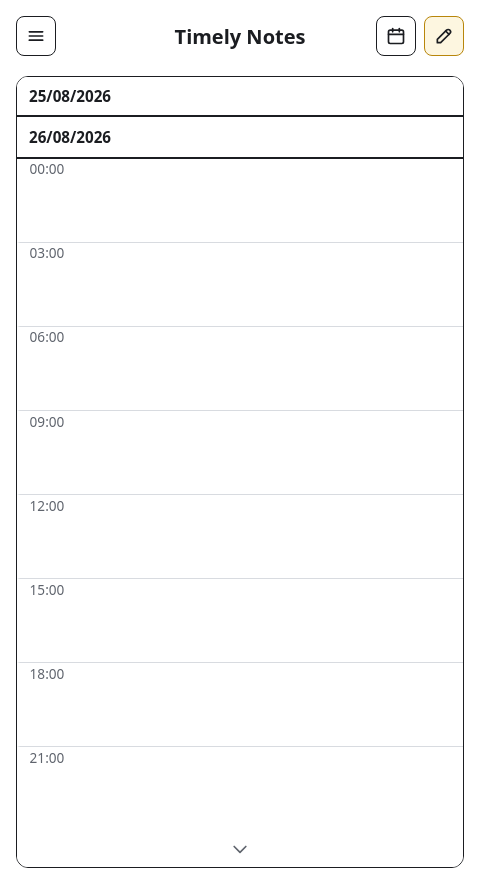
App — the window and the selection › says what is being viewed once today has been stepped off screen, and follows further steps
(page scrolled)
What coordinates should you click on to do the following:
click the button named "Later days"
I would click on:
 (240, 849)
Its box is [17, 831, 463, 867].
(page scrolled)
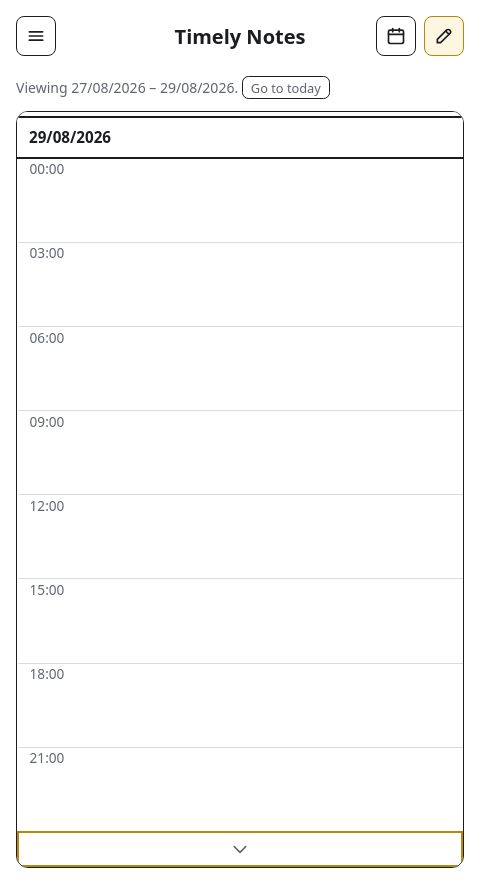
Expected: the message shows "Viewing 27/08/2026 – 29/08/2026.", [16, 76, 330, 99]
Expected: the button "Go to today" is shown, [242, 76, 330, 99]
What coordinates should you click on to do the following:
click the button named "Later days"
I would click on:
 (240, 849)
Its box is [17, 831, 463, 867].
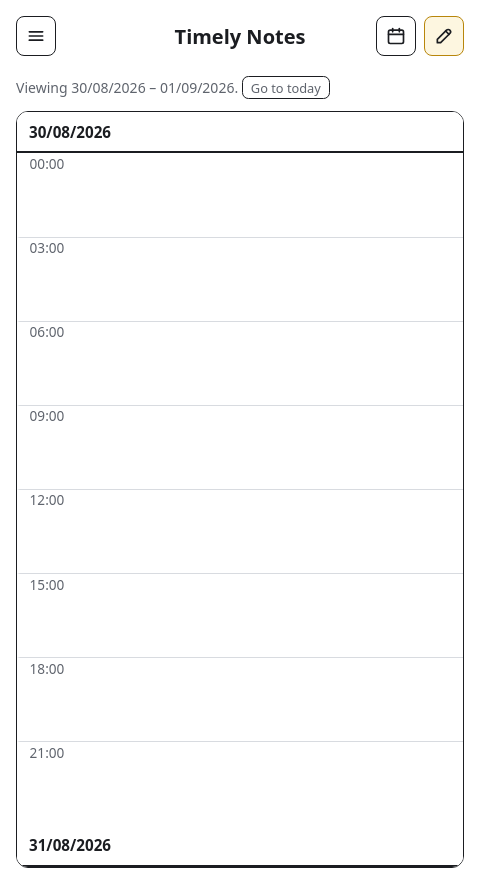
Expected: the message shows "Viewing 30/08/2026 – 01/09/2026.", [16, 76, 330, 99]
